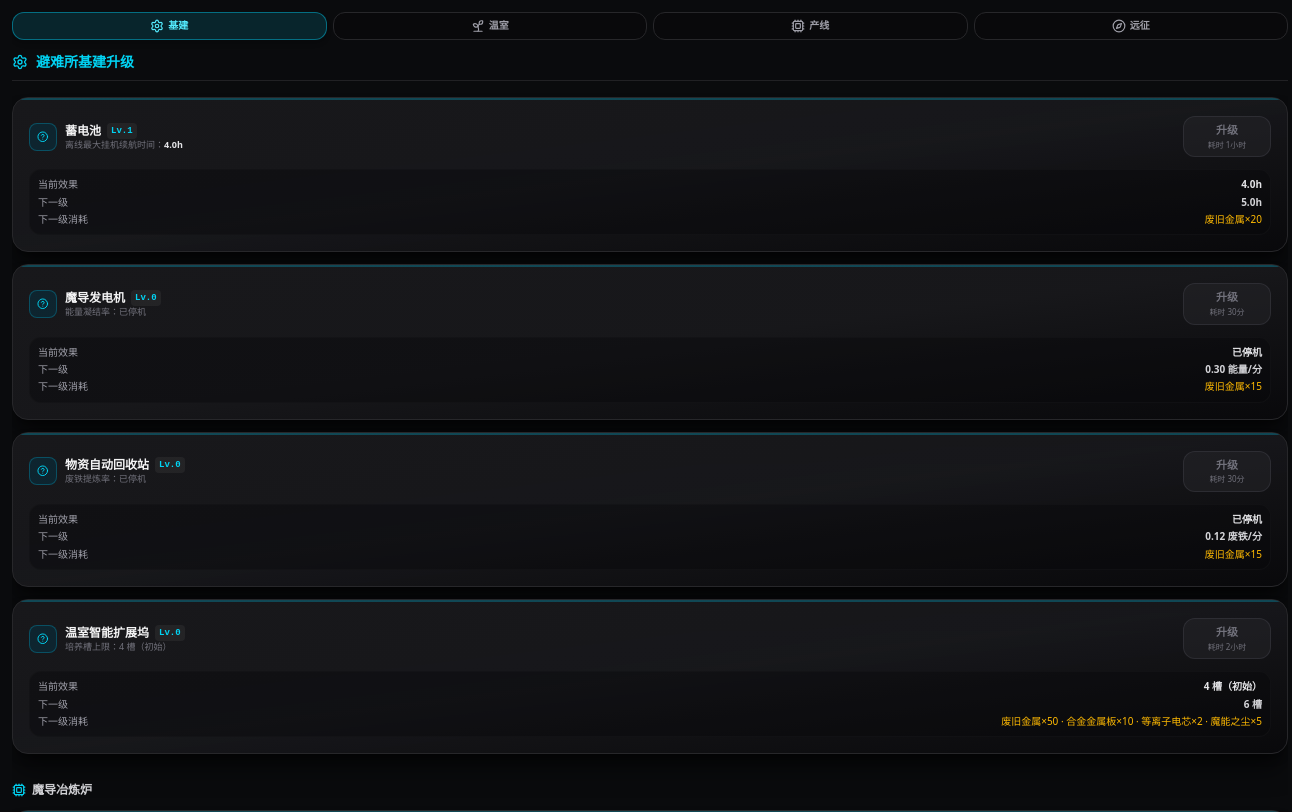
Test: ShelterTab Component UI - Integrated Greenhouse › renders planted crops with output item icon (GameIcon 切图管线)
This screenshot has width=1292, height=812.
Click the button "温室" at (490, 26), box [332,12,647,40]
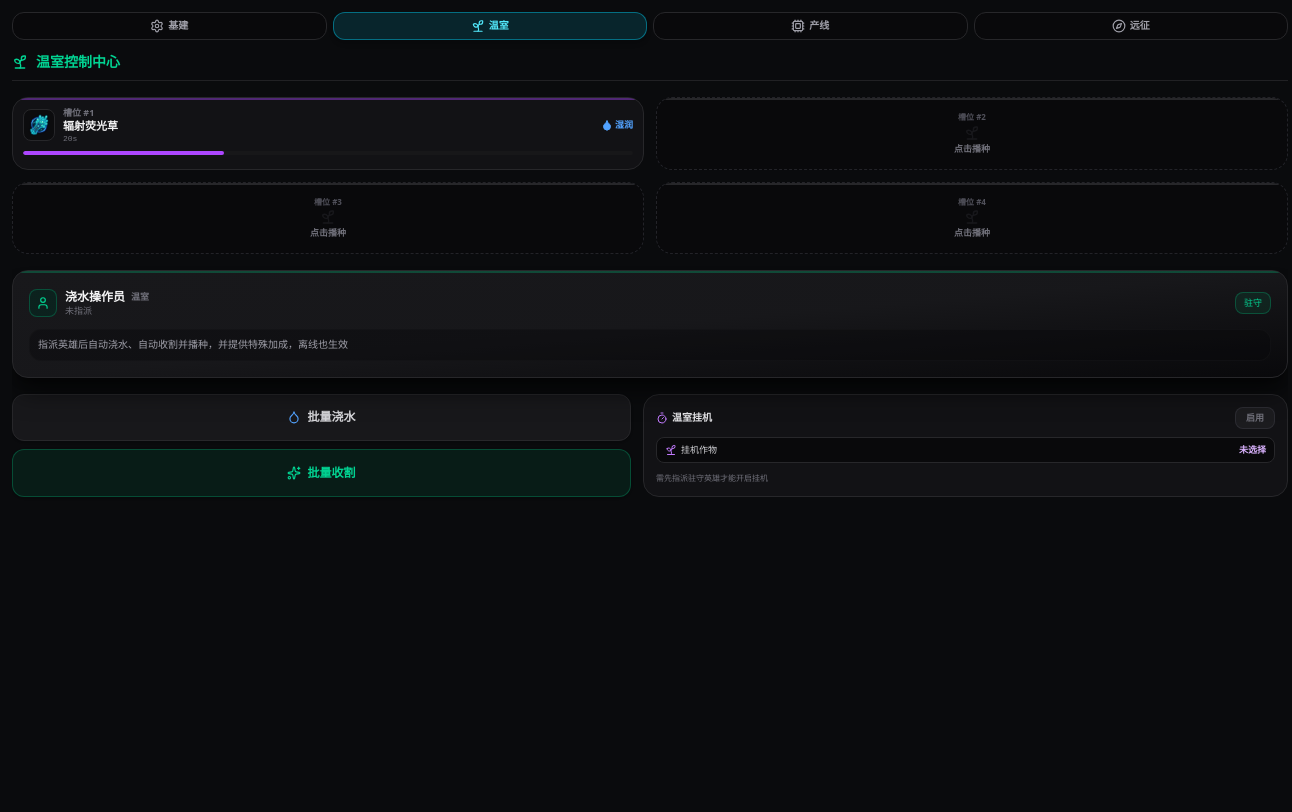
Now the text "辐射荧光草" is shown, box [63,118,118,133]
Now the text "湿润" is shown once, box [601,119,633,131]
Now the picture is shown, box [27,113,51,137]
